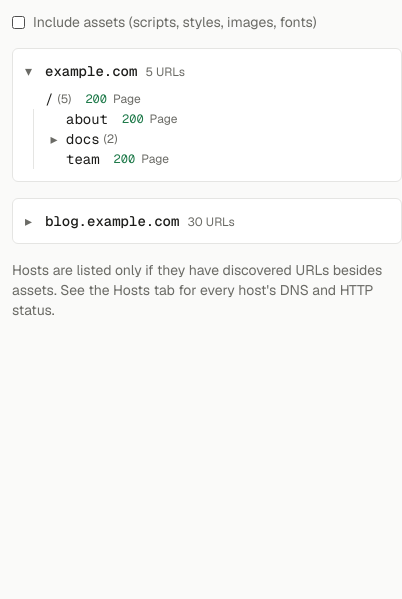
Test case: SiteMap details on narrow screens › opens details directly under the tapped path, inside its host's tree
Click the button "about" at (87, 119), box [66, 109, 108, 129]
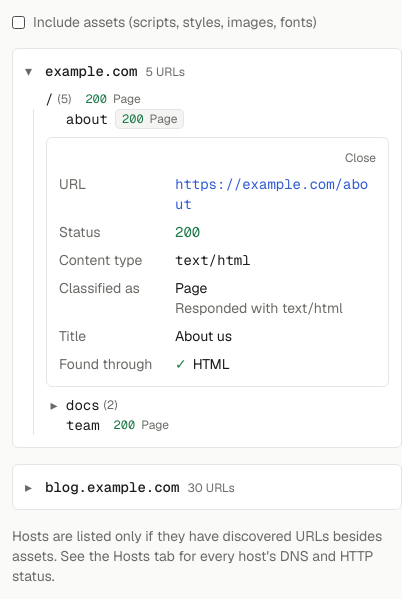
Expected: the element that starts with "example.com" is shown, [25, 61, 137, 81]
Expected: the text "About us" is shown, [175, 327, 232, 345]
